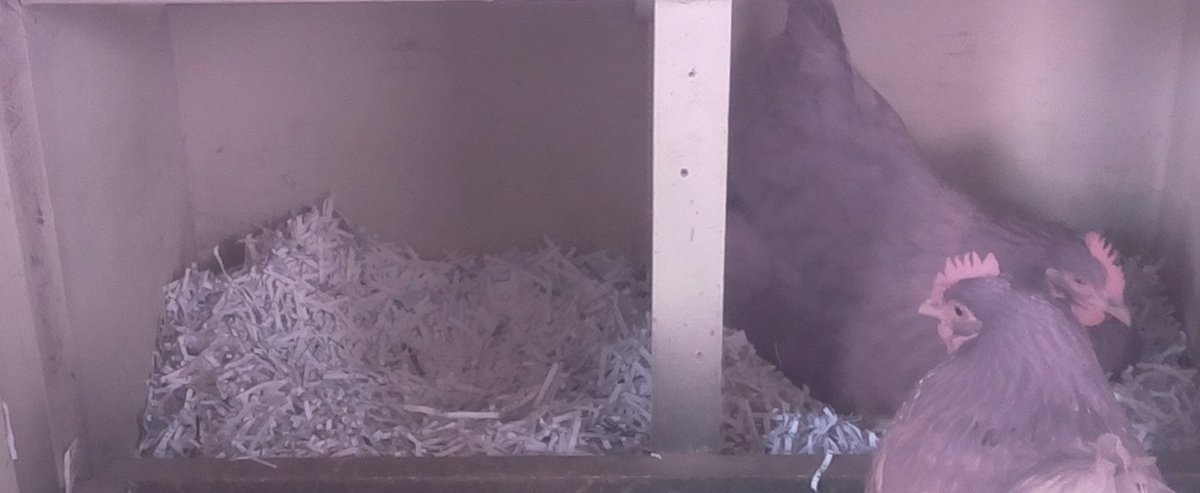hen: (739, 10, 1153, 429), (869, 245, 1166, 493)
